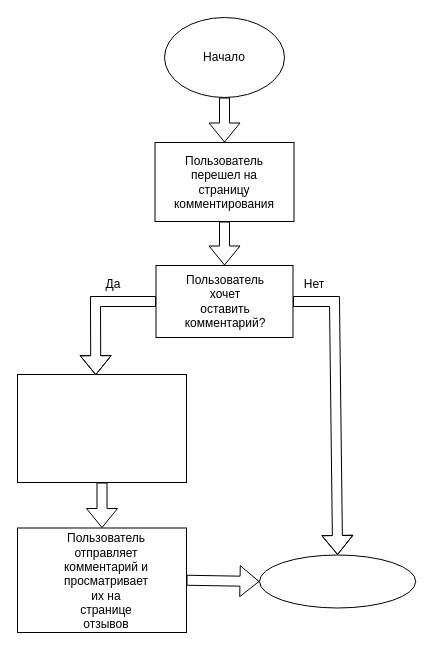
This 434x650 diagram has some shape labels left out. Here are the shapes that lost their labels. From the top down, the centre of each, then its label:
(x=101, y=428): Пользователь написал свои имя и комментарий в специальной форме
(x=337, y=581): Конец работы
